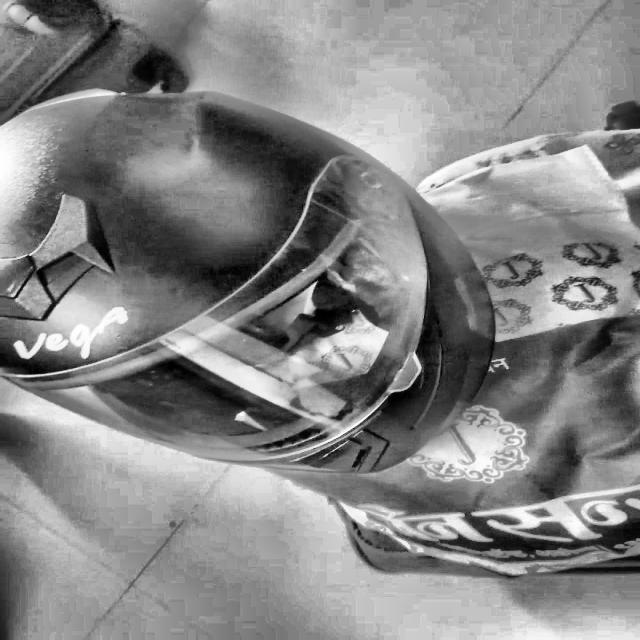Helmet: (0, 92, 483, 470)
